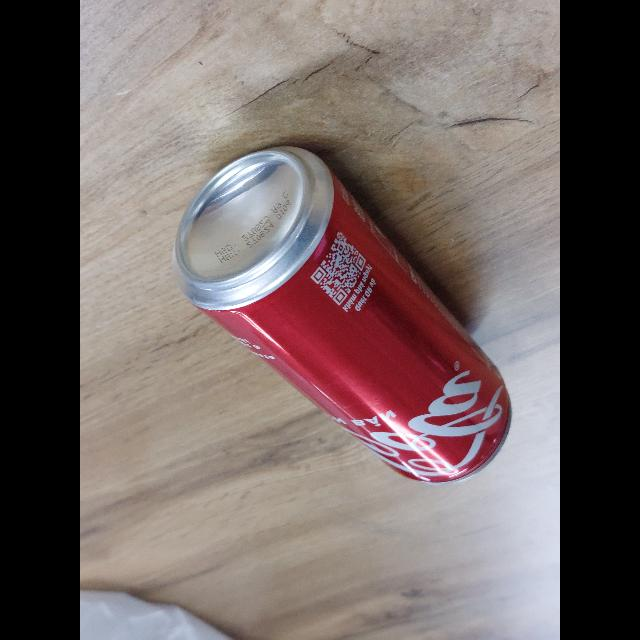coca_cola: (172, 144, 513, 484)
